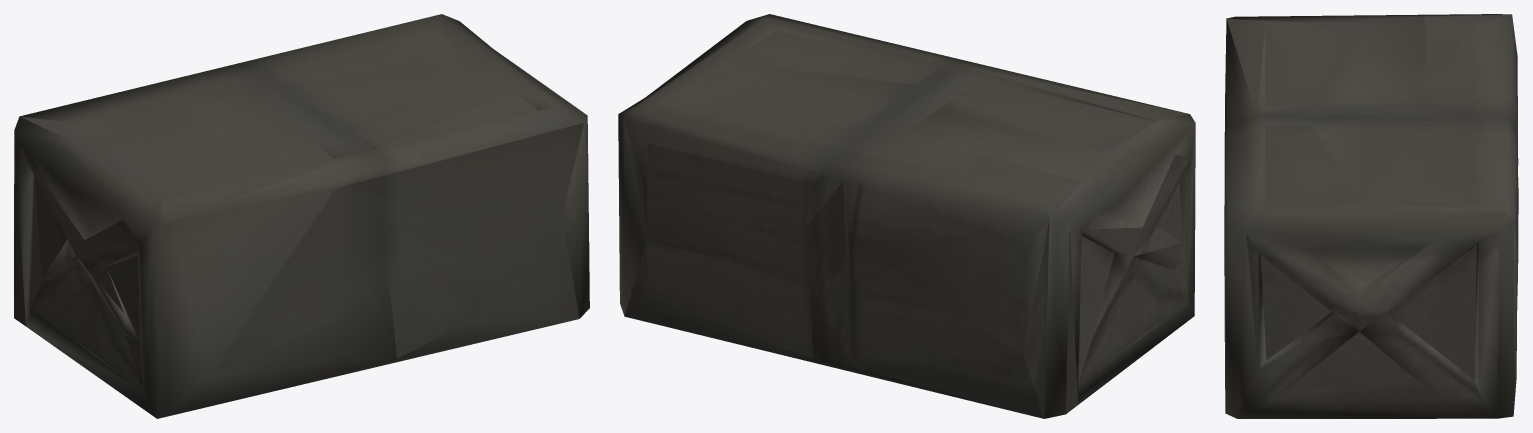
3 views of the same model, side by side, from view 1: azimuth 30°, elevation 25°; view 2: azimuth 150°, elevation 25°; view 3: azimuth 270°, elevation 25° (orthographic).
Visible parts, largest first — view 1: tripo_node_ae94fd78.011; view 2: tripo_node_ae94fd78.011; view 3: tripo_node_ae94fd78.011.
Boxes of the visible parts, left/top/right/bottom form: tripo_node_ae94fd78.011: left=14, top=14, right=589, bottom=418; tripo_node_ae94fd78.011: left=618, top=14, right=1195, bottom=418; tripo_node_ae94fd78.011: left=1224, top=14, right=1518, bottom=418.
Bounding box in the file's own units: 7 × 3.01 × 3.95.
